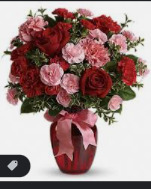RedRose: (81, 64, 111, 99), (39, 23, 71, 52), (115, 55, 137, 86), (96, 11, 120, 36), (8, 56, 30, 80), (20, 72, 42, 93), (13, 40, 37, 58), (54, 5, 78, 22), (81, 18, 94, 34)
